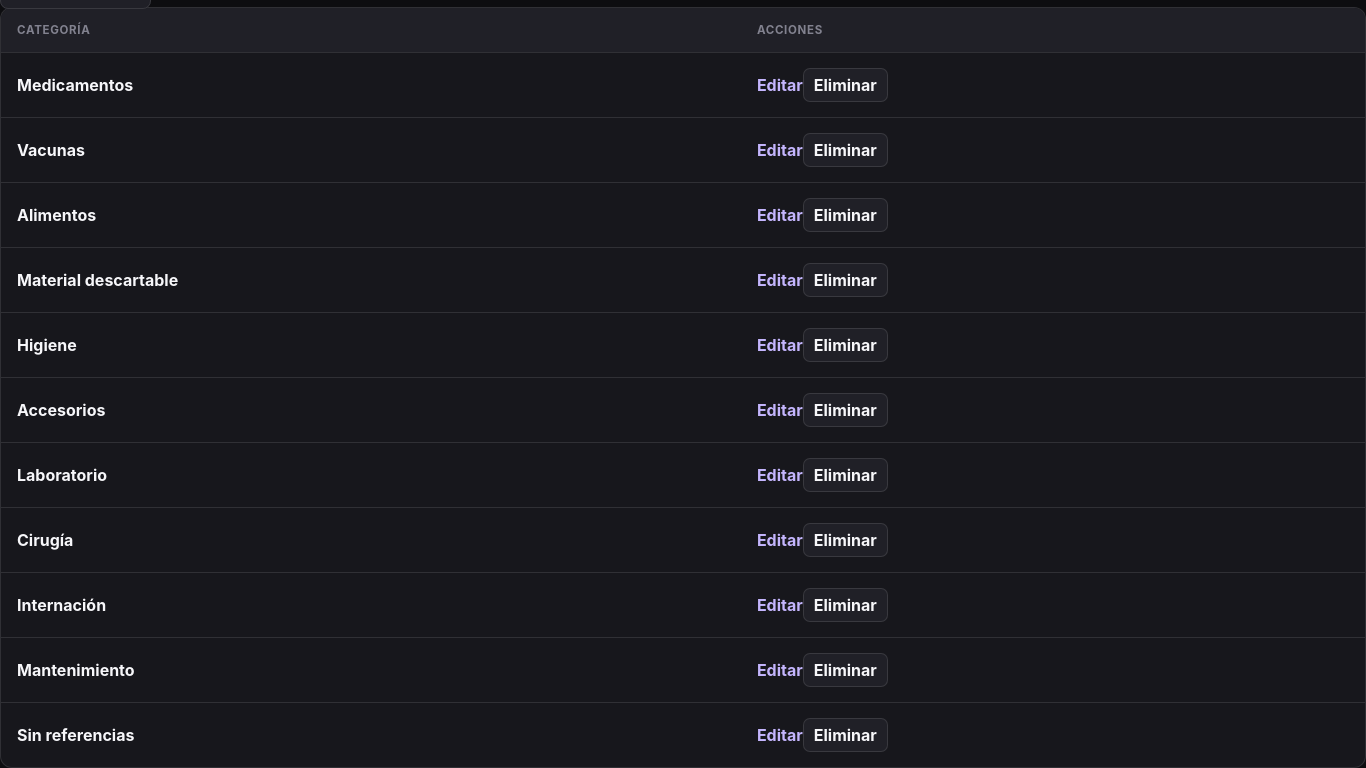
it: CategoryPage › keeps a category active when deletion is cancelled
This screenshot has width=1366, height=768.
(page scrolled)
Click the button "Eliminar" in the row of "Sin referencias" at point(845, 735), box [803, 718, 888, 752]
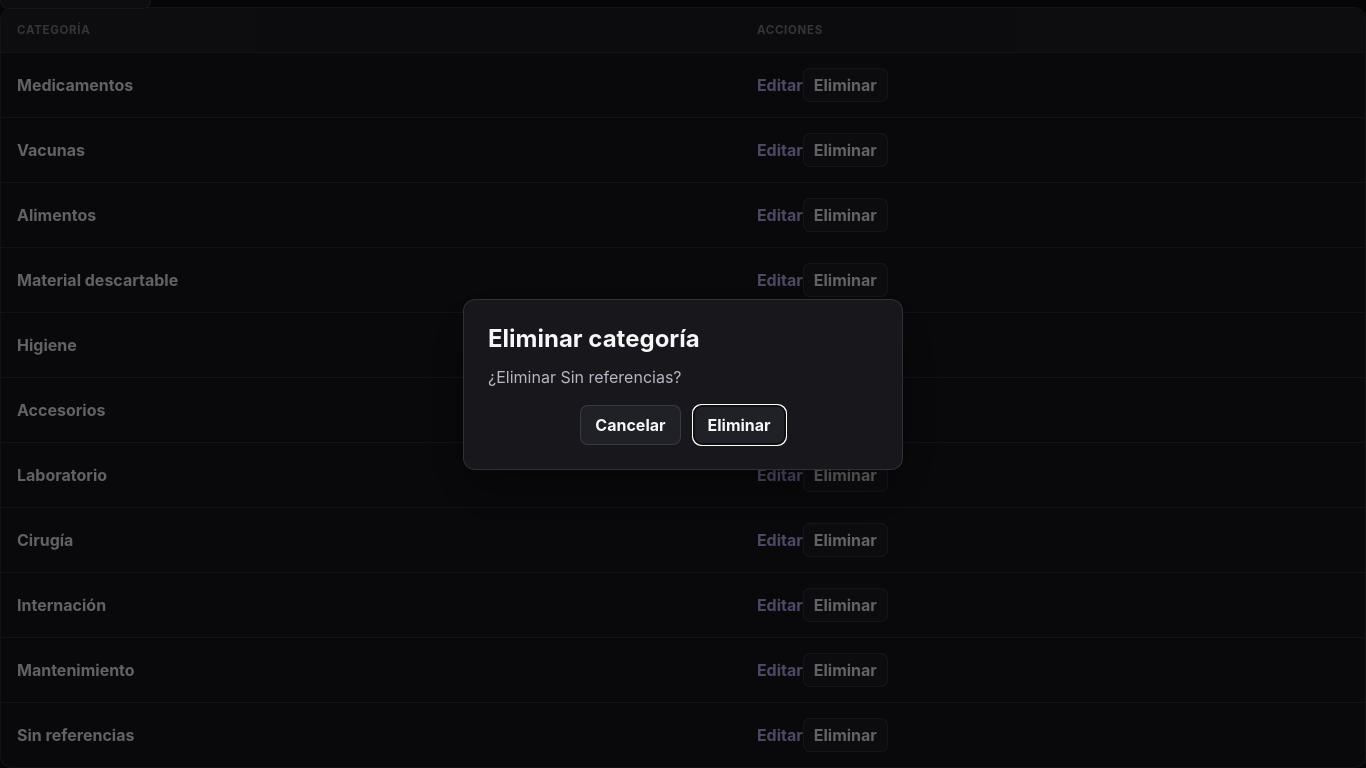
Click the button "Cancelar" at point(630, 424), box [580, 404, 681, 444]
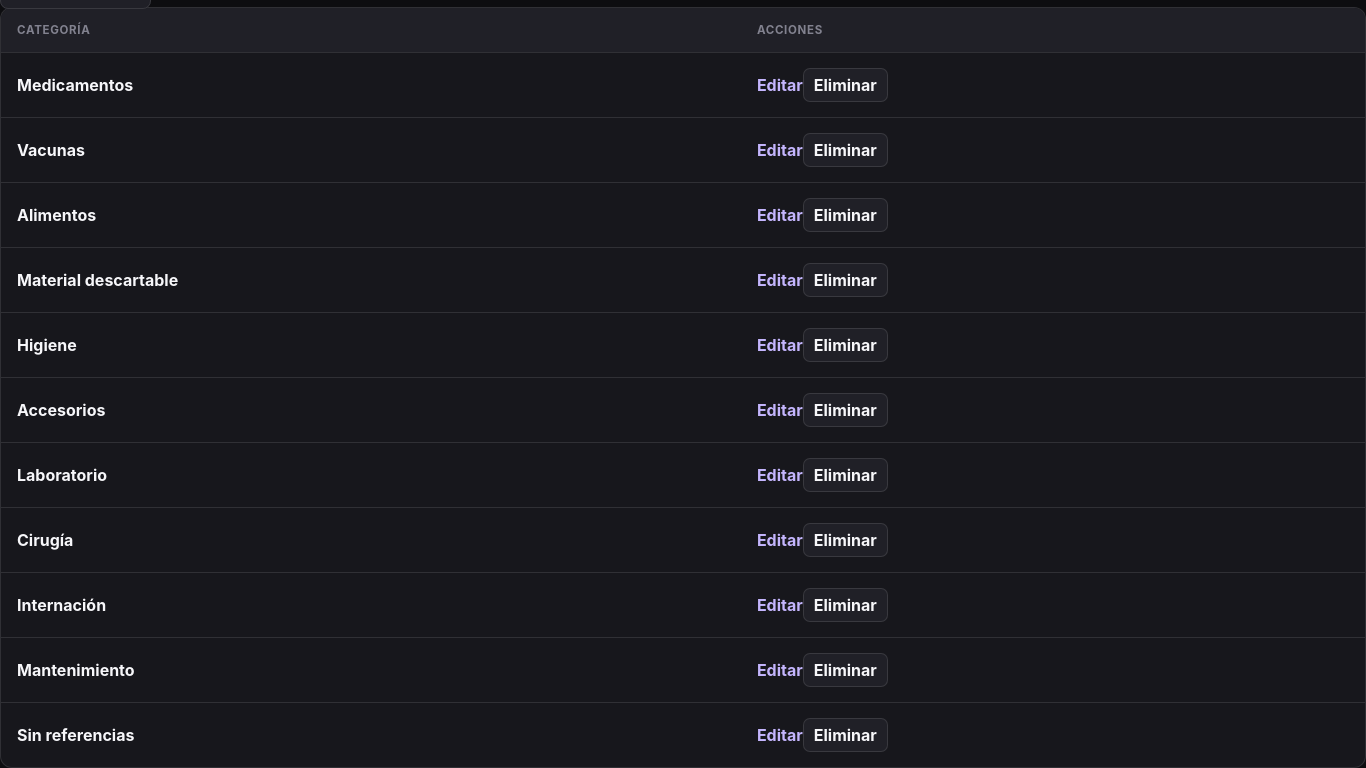
Expected: the column heading "Sin referencias" is shown, [1, 702, 741, 767]
Now the dialog is gone
